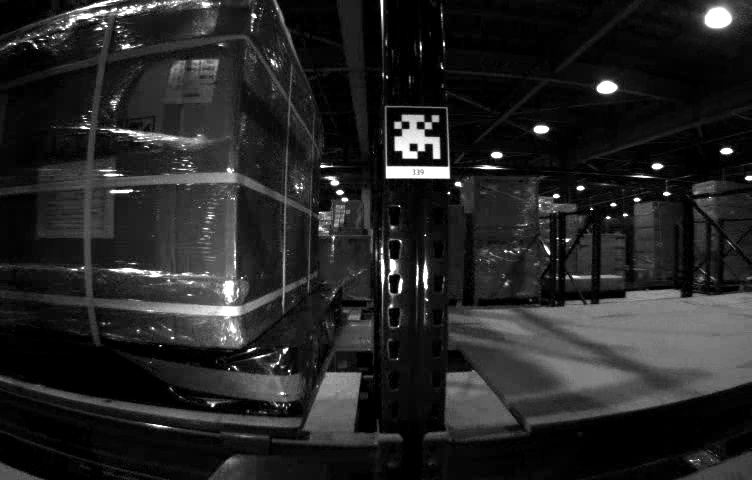True Barcode: (165, 61, 216, 100)
